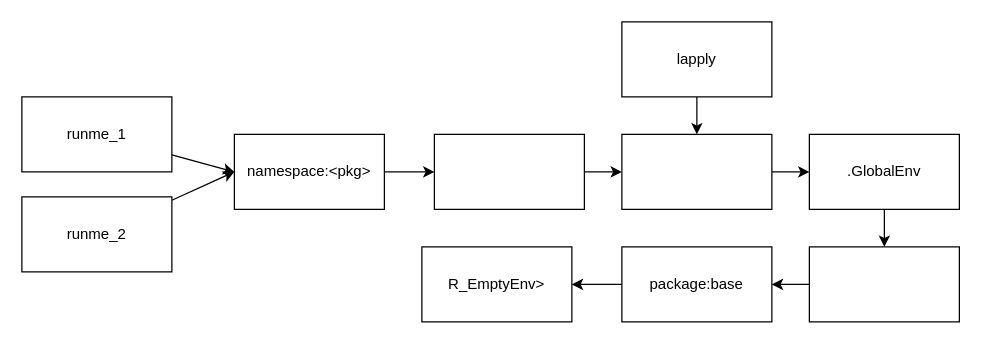
Image size: 981x344. Some labels were removed from this diagram. Here are the shapes that lost their labels. From the top down, the box of each, then its label:
(433, 133, 584, 209): imports:<pkg>
(621, 133, 772, 209): namespace:base
(808, 246, 959, 322): <searchpath>
